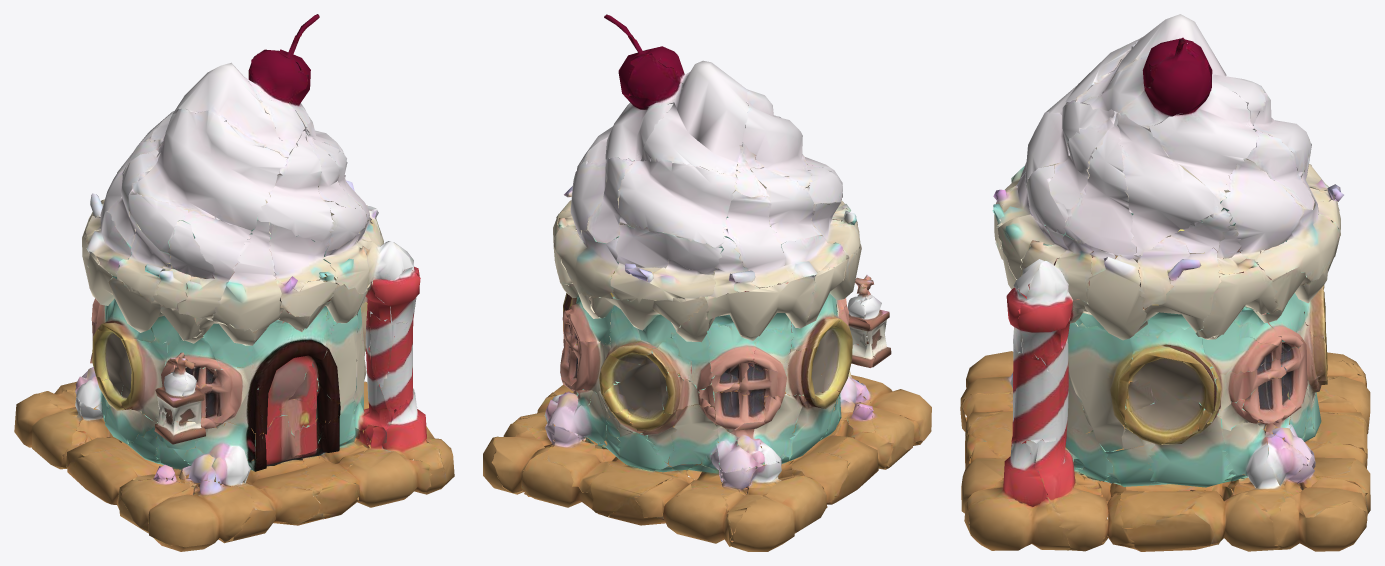
The model's file is shop-barber-chantilly.glb.
3 renders of one model, left to right at view 1: azimuth 30°, elevation 25°; view 2: azimuth 150°, elevation 25°; view 3: azimuth 270°, elevation 25°, orthographic. The views are drawn at different scales.
Parts seen in each view (by area): view 1: Mesh_0; view 2: Mesh_0; view 3: Mesh_0.
Part boxes in pixels (x1,y1,x2,y2): Mesh_0: (14, 14, 454, 551); Mesh_0: (483, 14, 931, 551); Mesh_0: (960, 14, 1370, 551).
Size of the model in its own units: 1.4 by 1.9 by 1.45.
1 material, 1 textured.
